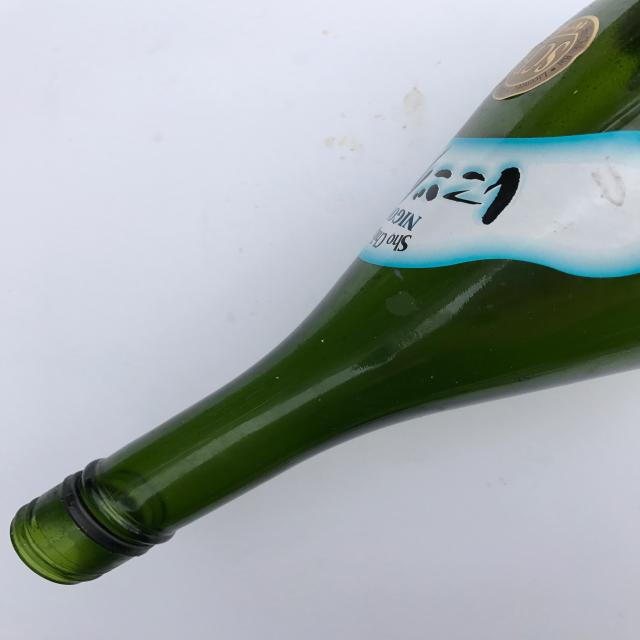glass: (7, 0, 638, 586)
